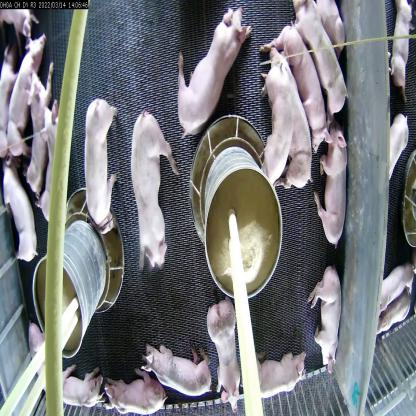Pig: (173, 5, 249, 136), (132, 105, 174, 286), (263, 54, 313, 198), (292, 0, 351, 117), (275, 24, 329, 151), (80, 94, 122, 240), (314, 122, 350, 251), (207, 296, 245, 414), (1, 156, 38, 275), (146, 342, 213, 404), (11, 32, 43, 160), (33, 101, 64, 226), (27, 59, 53, 194), (50, 356, 106, 416), (306, 266, 340, 362), (252, 344, 309, 400), (101, 369, 168, 416)
